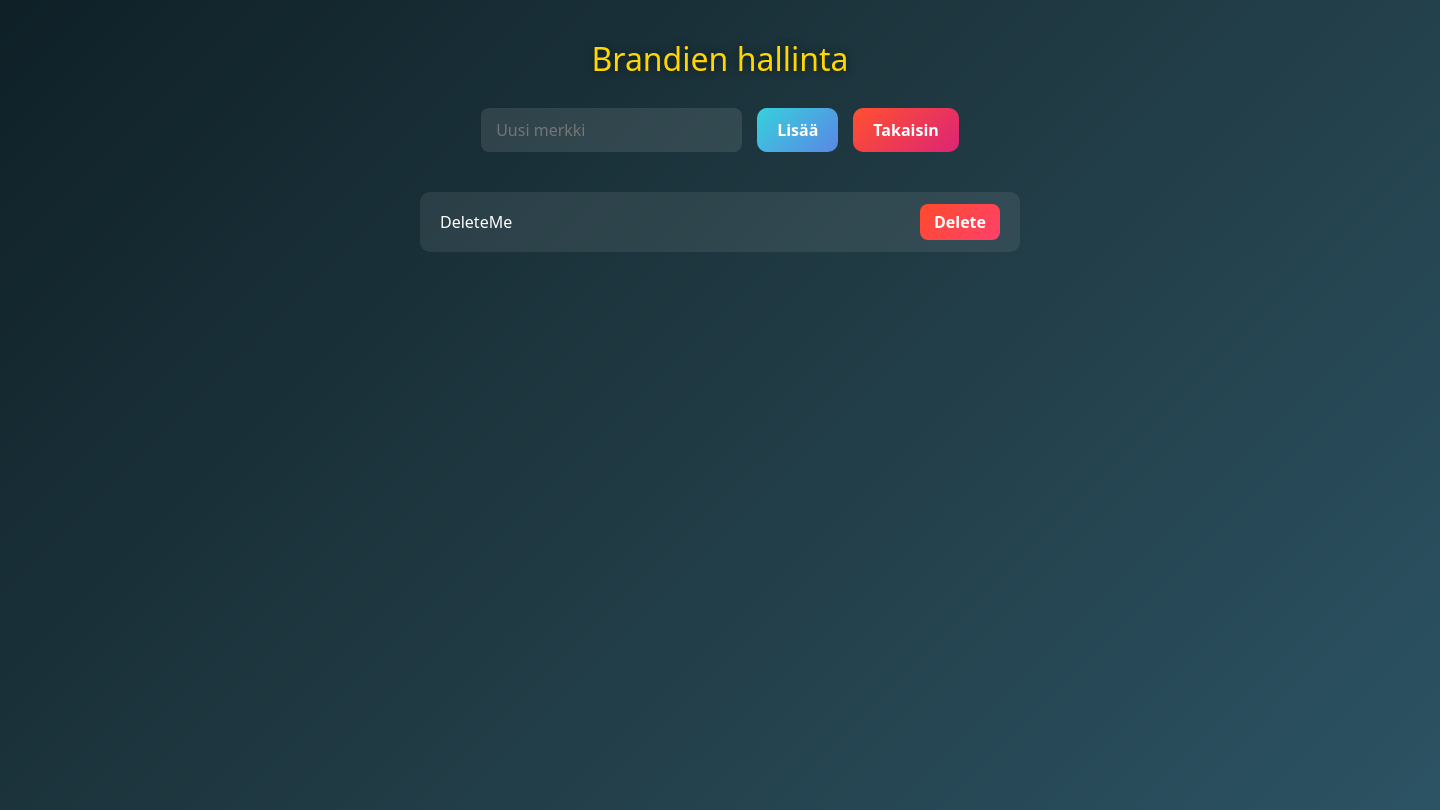
Test: BrandManagement › poistaa brandin onnistuneesti
Expected: the text "DeleteMe" is shown, [440, 210, 512, 234]
What coordinates should you click on to do the following:
click the button "Delete"
I would click on:
 (960, 222)
Its box is [920, 204, 1000, 240].
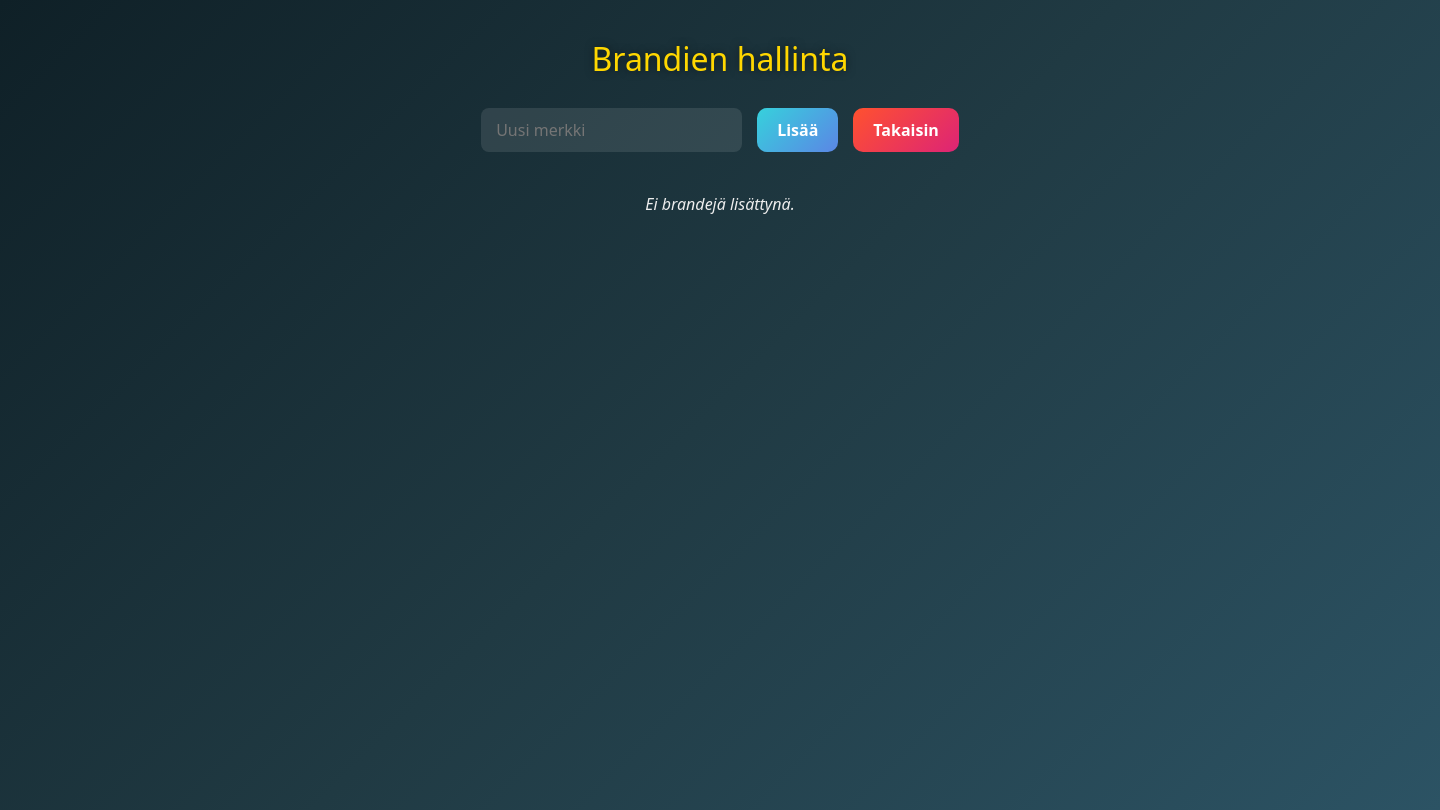
Result: the text "DeleteMe" is gone
